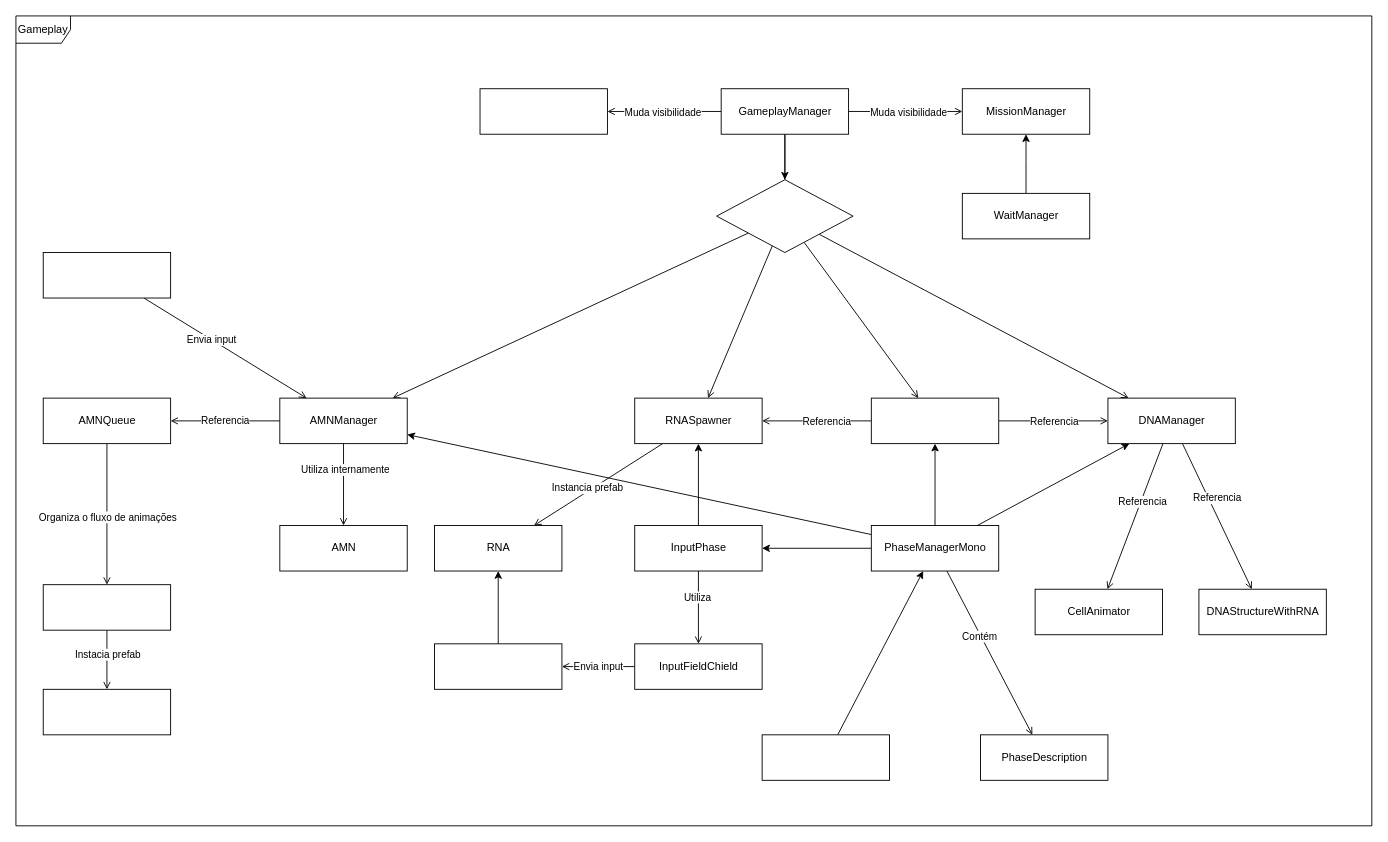
Some shapes in this 1388 by 842 pixel diagram are drawn without their labels. Here are the shapes that lost their labels. From the top down, the box of each, then its label:
(479, 88, 607, 134): InstructionManager
(716, 179, 853, 253): Utiliza um por vez
(42, 252, 171, 298): AMNInputField
(870, 397, 999, 444): CellNucleusManager
(42, 584, 171, 630): RibossomeAnimator
(434, 643, 562, 689): TextWithInput
(42, 688, 171, 735): AMNLetter
(761, 734, 890, 780): PhaseManager:interface
